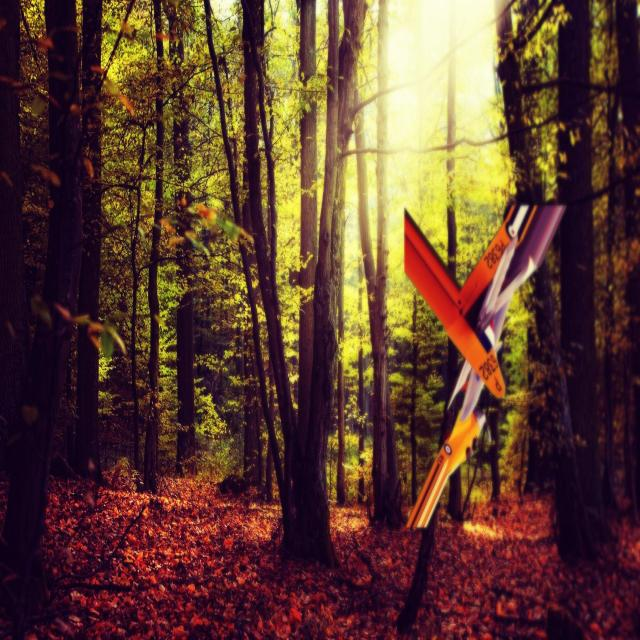airplane: (402, 203, 567, 529)
